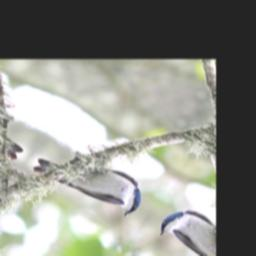Swallow: (28, 134, 154, 225)
